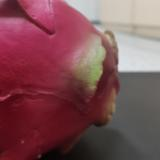pitaya: (1, 1, 120, 159)
